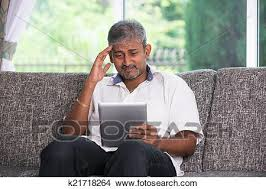Indian_Male: (108, 20, 151, 76)
